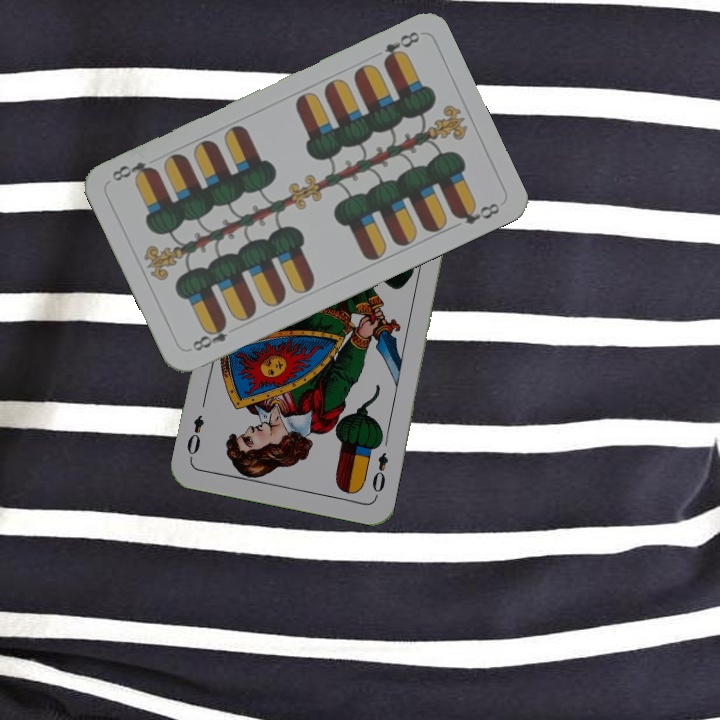E8: (379, 27, 423, 67), (188, 318, 231, 354)
EO: (368, 448, 391, 500)
